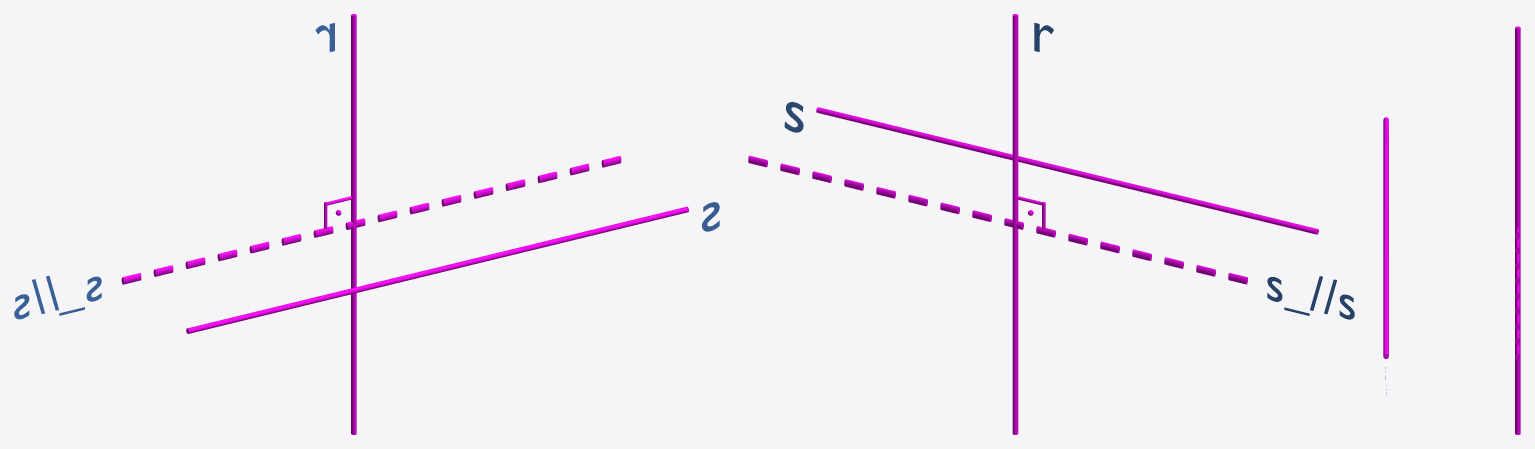
Rendered from ob1.4_retas_ortogonais.glb.
3 renders of one model, left to right at view 1: azimuth 30°, elevation 25°; view 2: azimuth 150°, elevation 25°; view 3: azimuth 270°, elevation 25°, orthographic. The views are drawn at different scales.
Visible parts, largest first — view 1: A16_Cylinder, letra_s0_Text; view 2: A16_Cylinder, letra_s0_Text; view 3: A16_Cylinder.
Boxes of the visible parts, x1,y1,x2,y2 form: A16_Cylinder: [121, 14, 688, 434]; letra_s0_Text: [14, 276, 101, 319]; A16_Cylinder: [748, 14, 1318, 434]; letra_s0_Text: [1267, 276, 1354, 319]; A16_Cylinder: [1383, 26, 1520, 434].
Bounding box in the file's own units: 1.28 × 0.8 × 0.2454.
